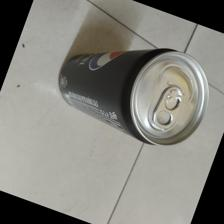Pepsi: (55, 44, 210, 149)
